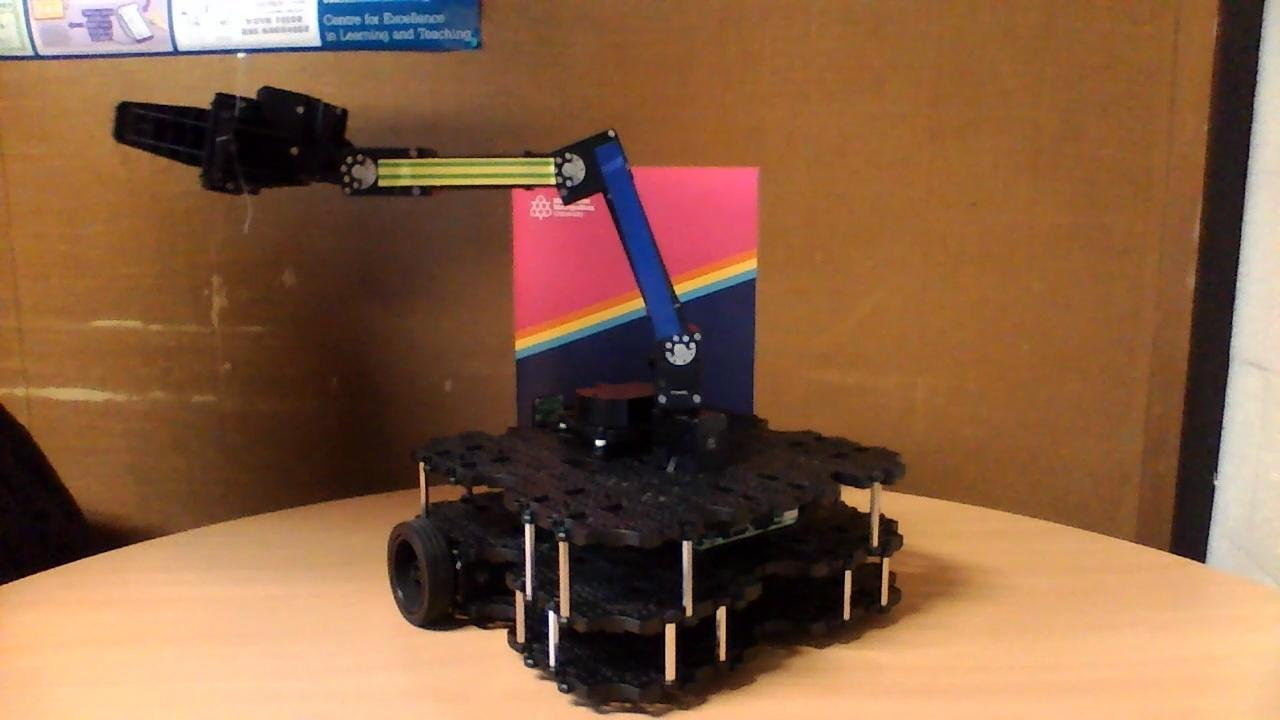Arm: (571, 124, 707, 375)
Hand: (107, 83, 379, 203)
Wrist: (334, 138, 588, 207)
base: (383, 377, 910, 707)
